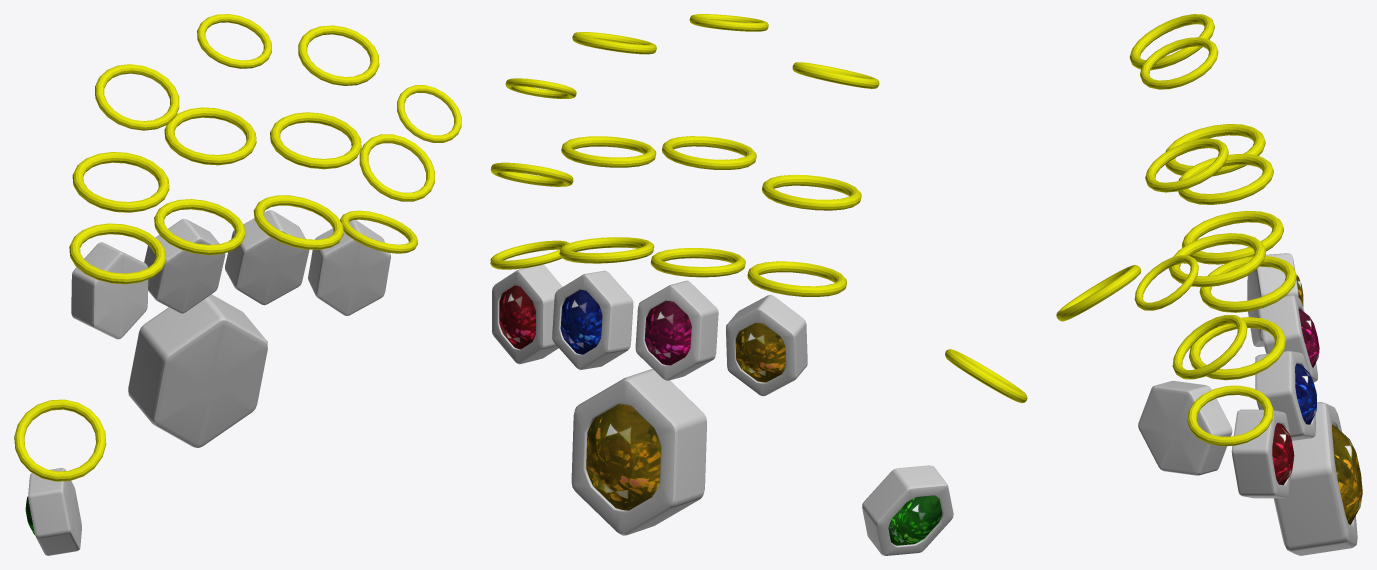
The model's file is gems.fbx.
3 views of the same model, side by side, from view 1: azimuth 30°, elevation 25°; view 2: azimuth 150°, elevation 25°; view 3: azimuth 270°, elevation 25° (orthographic). The views are drawn at different scales.
Parts seen in each view (by area): view 1: pCylinder11; view 2: pCylinder11; view 3: pCylinder11.
Part boxes in pixels (bbox=[...]): pCylinder11: bbox=[14, 14, 461, 555]; pCylinder11: bbox=[490, 14, 1027, 555]; pCylinder11: bbox=[1056, 14, 1362, 555].
Size of the model in its own units: 12.92 by 12.74 by 6.88.
Materials: 3 (1 with a texture image).
